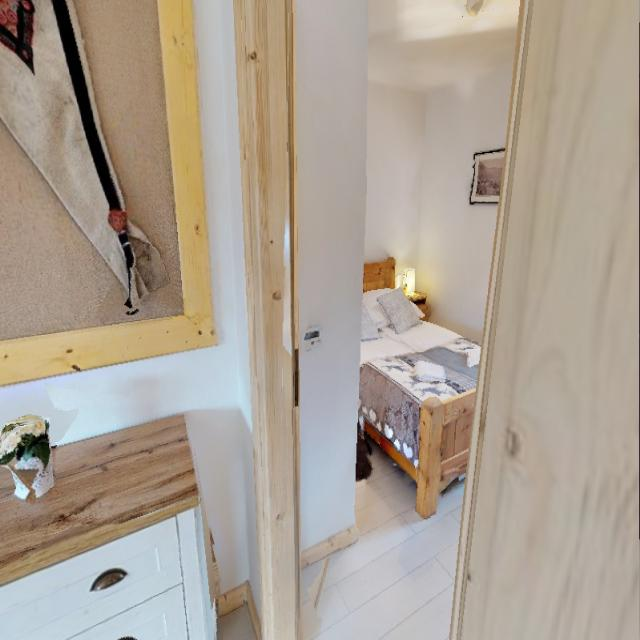bed: (356, 250, 493, 526)
door-frame: (237, 0, 558, 640)
